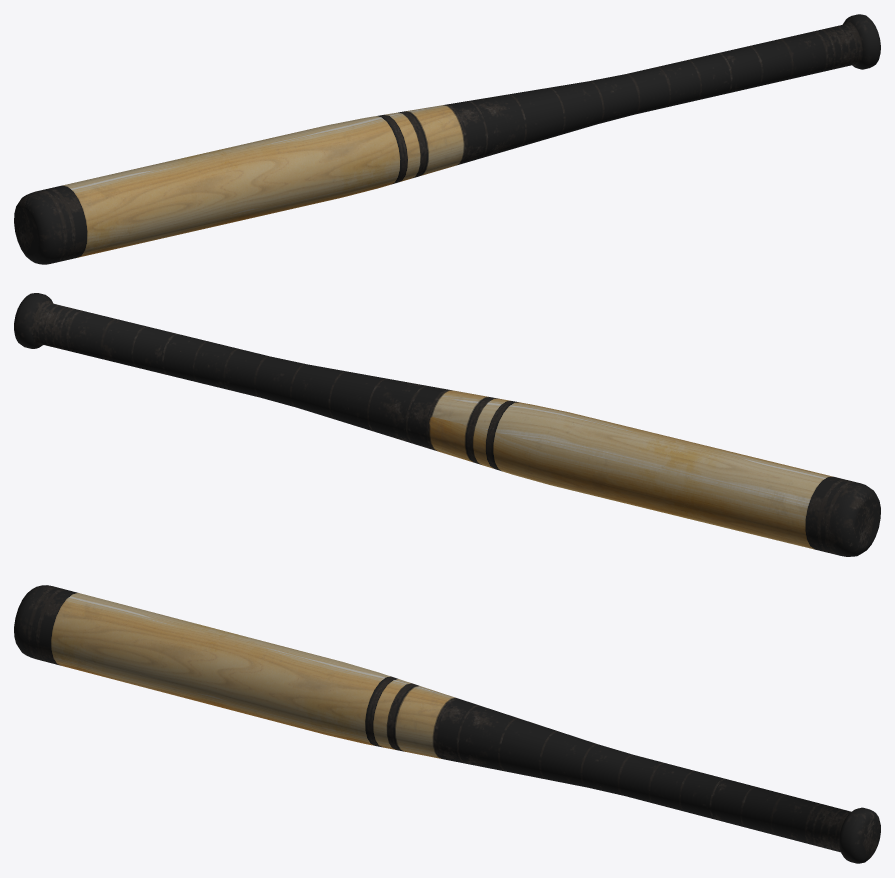
3 views of the same model, one above another, from view 1: azimuth 30°, elevation 25°; view 2: azimuth 150°, elevation 25°; view 3: azimuth 330°, elevation 25° (orthographic).
Visible parts, largest first — view 1: Baseball_Bat; view 2: Baseball_Bat; view 3: Baseball_Bat.
Boxes of the visible parts, x1=… form: Baseball_Bat: x1=14, y1=14, x2=880, y2=264; Baseball_Bat: x1=14, y1=293, x2=880, y2=556; Baseball_Bat: x1=14, y1=585, x2=880, y2=863.
Size of the model in its own units: 0.8005 by 0.0633 by 0.0649.
Materials: 1 (1 with a texture image).
